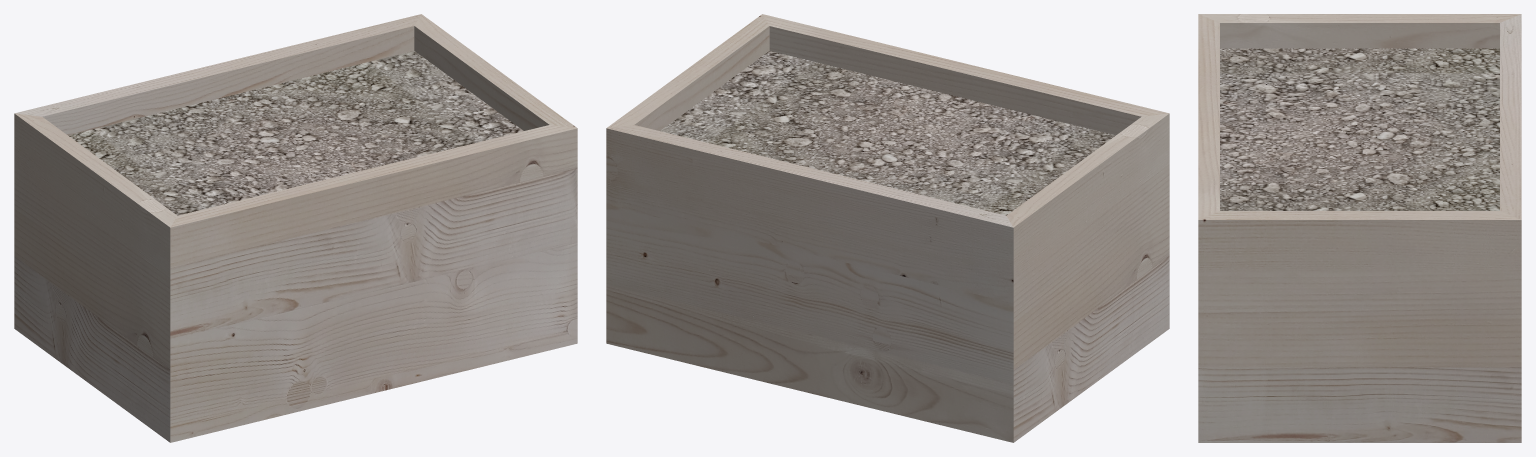
The model's file is WoodenFlowerbed2.fbx.
3 renders of one model, left to right at view 1: azimuth 30°, elevation 25°; view 2: azimuth 150°, elevation 25°; view 3: azimuth 270°, elevation 25°, orthographic. The views are drawn at different scales.
Visible parts, largest first — view 1: WoodenFlowerbed2; view 2: WoodenFlowerbed2; view 3: WoodenFlowerbed2.
Part boxes in pixels (x1=…): WoodenFlowerbed2: x1=14, y1=14, x2=577, y2=442; WoodenFlowerbed2: x1=606, y1=14, x2=1169, y2=442; WoodenFlowerbed2: x1=1198, y1=14, x2=1521, y2=442.
Size of the model in its own units: 101 by 51.04 by 67.1.
